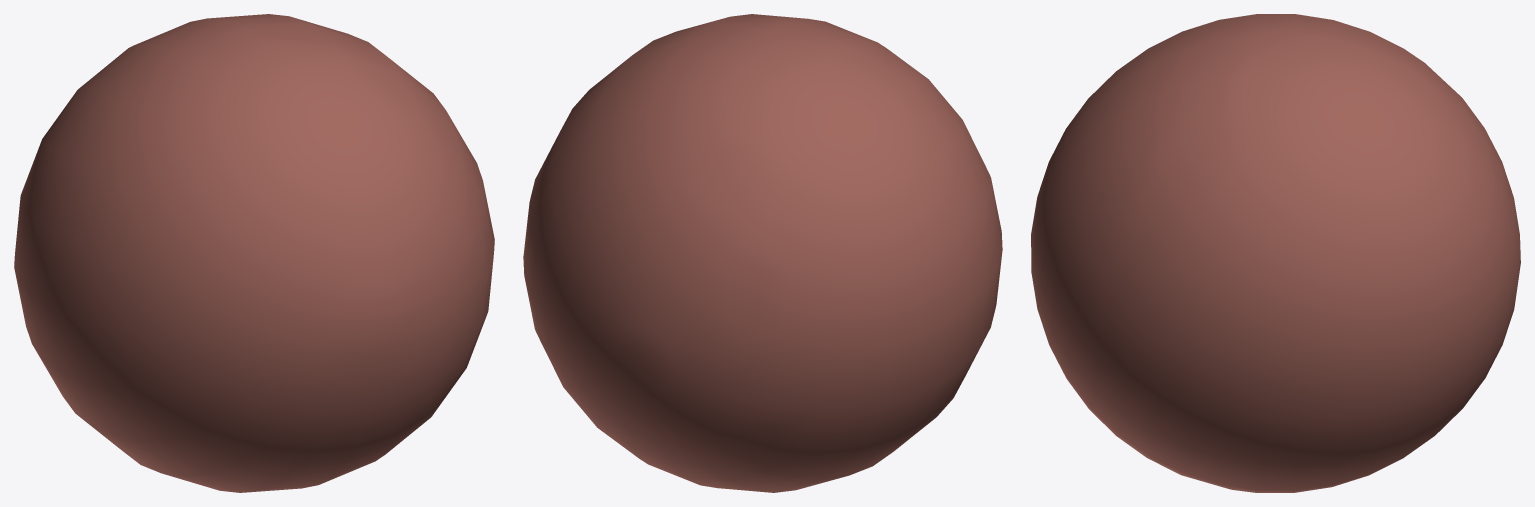
The model's file is mixamo_humanoid_joint_rightUpLeg.fbx.
3 renders of one model, left to right at view 1: azimuth 30°, elevation 25°; view 2: azimuth 150°, elevation 25°; view 3: azimuth 270°, elevation 25°, orthographic.
Parts seen in each view (by area): view 1: joint_RightUpLeg; view 2: joint_RightUpLeg; view 3: joint_RightUpLeg.
Boxes of the visible parts, <box> form: joint_RightUpLeg: <box>14,14,494,492</box>; joint_RightUpLeg: <box>523,14,1002,492</box>; joint_RightUpLeg: <box>1031,14,1520,492</box>.
Bounding box in the file's own units: 17.42 × 17.38 × 17.63.
